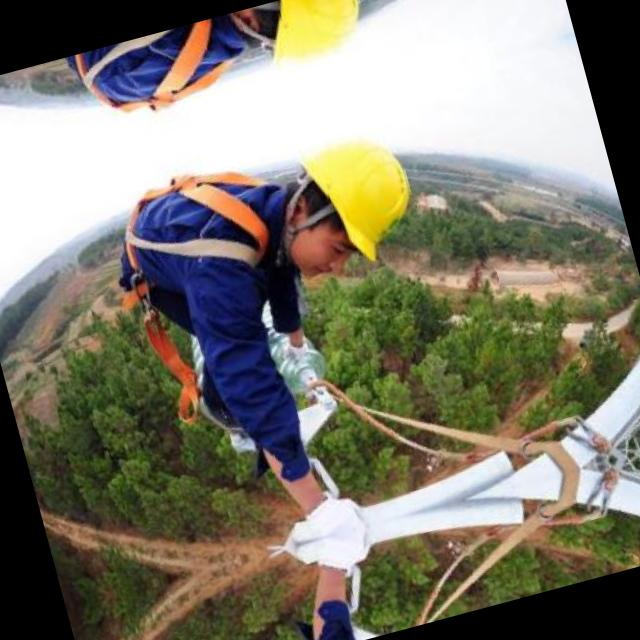helmet: (250, 103, 447, 298), (216, 0, 394, 100)
